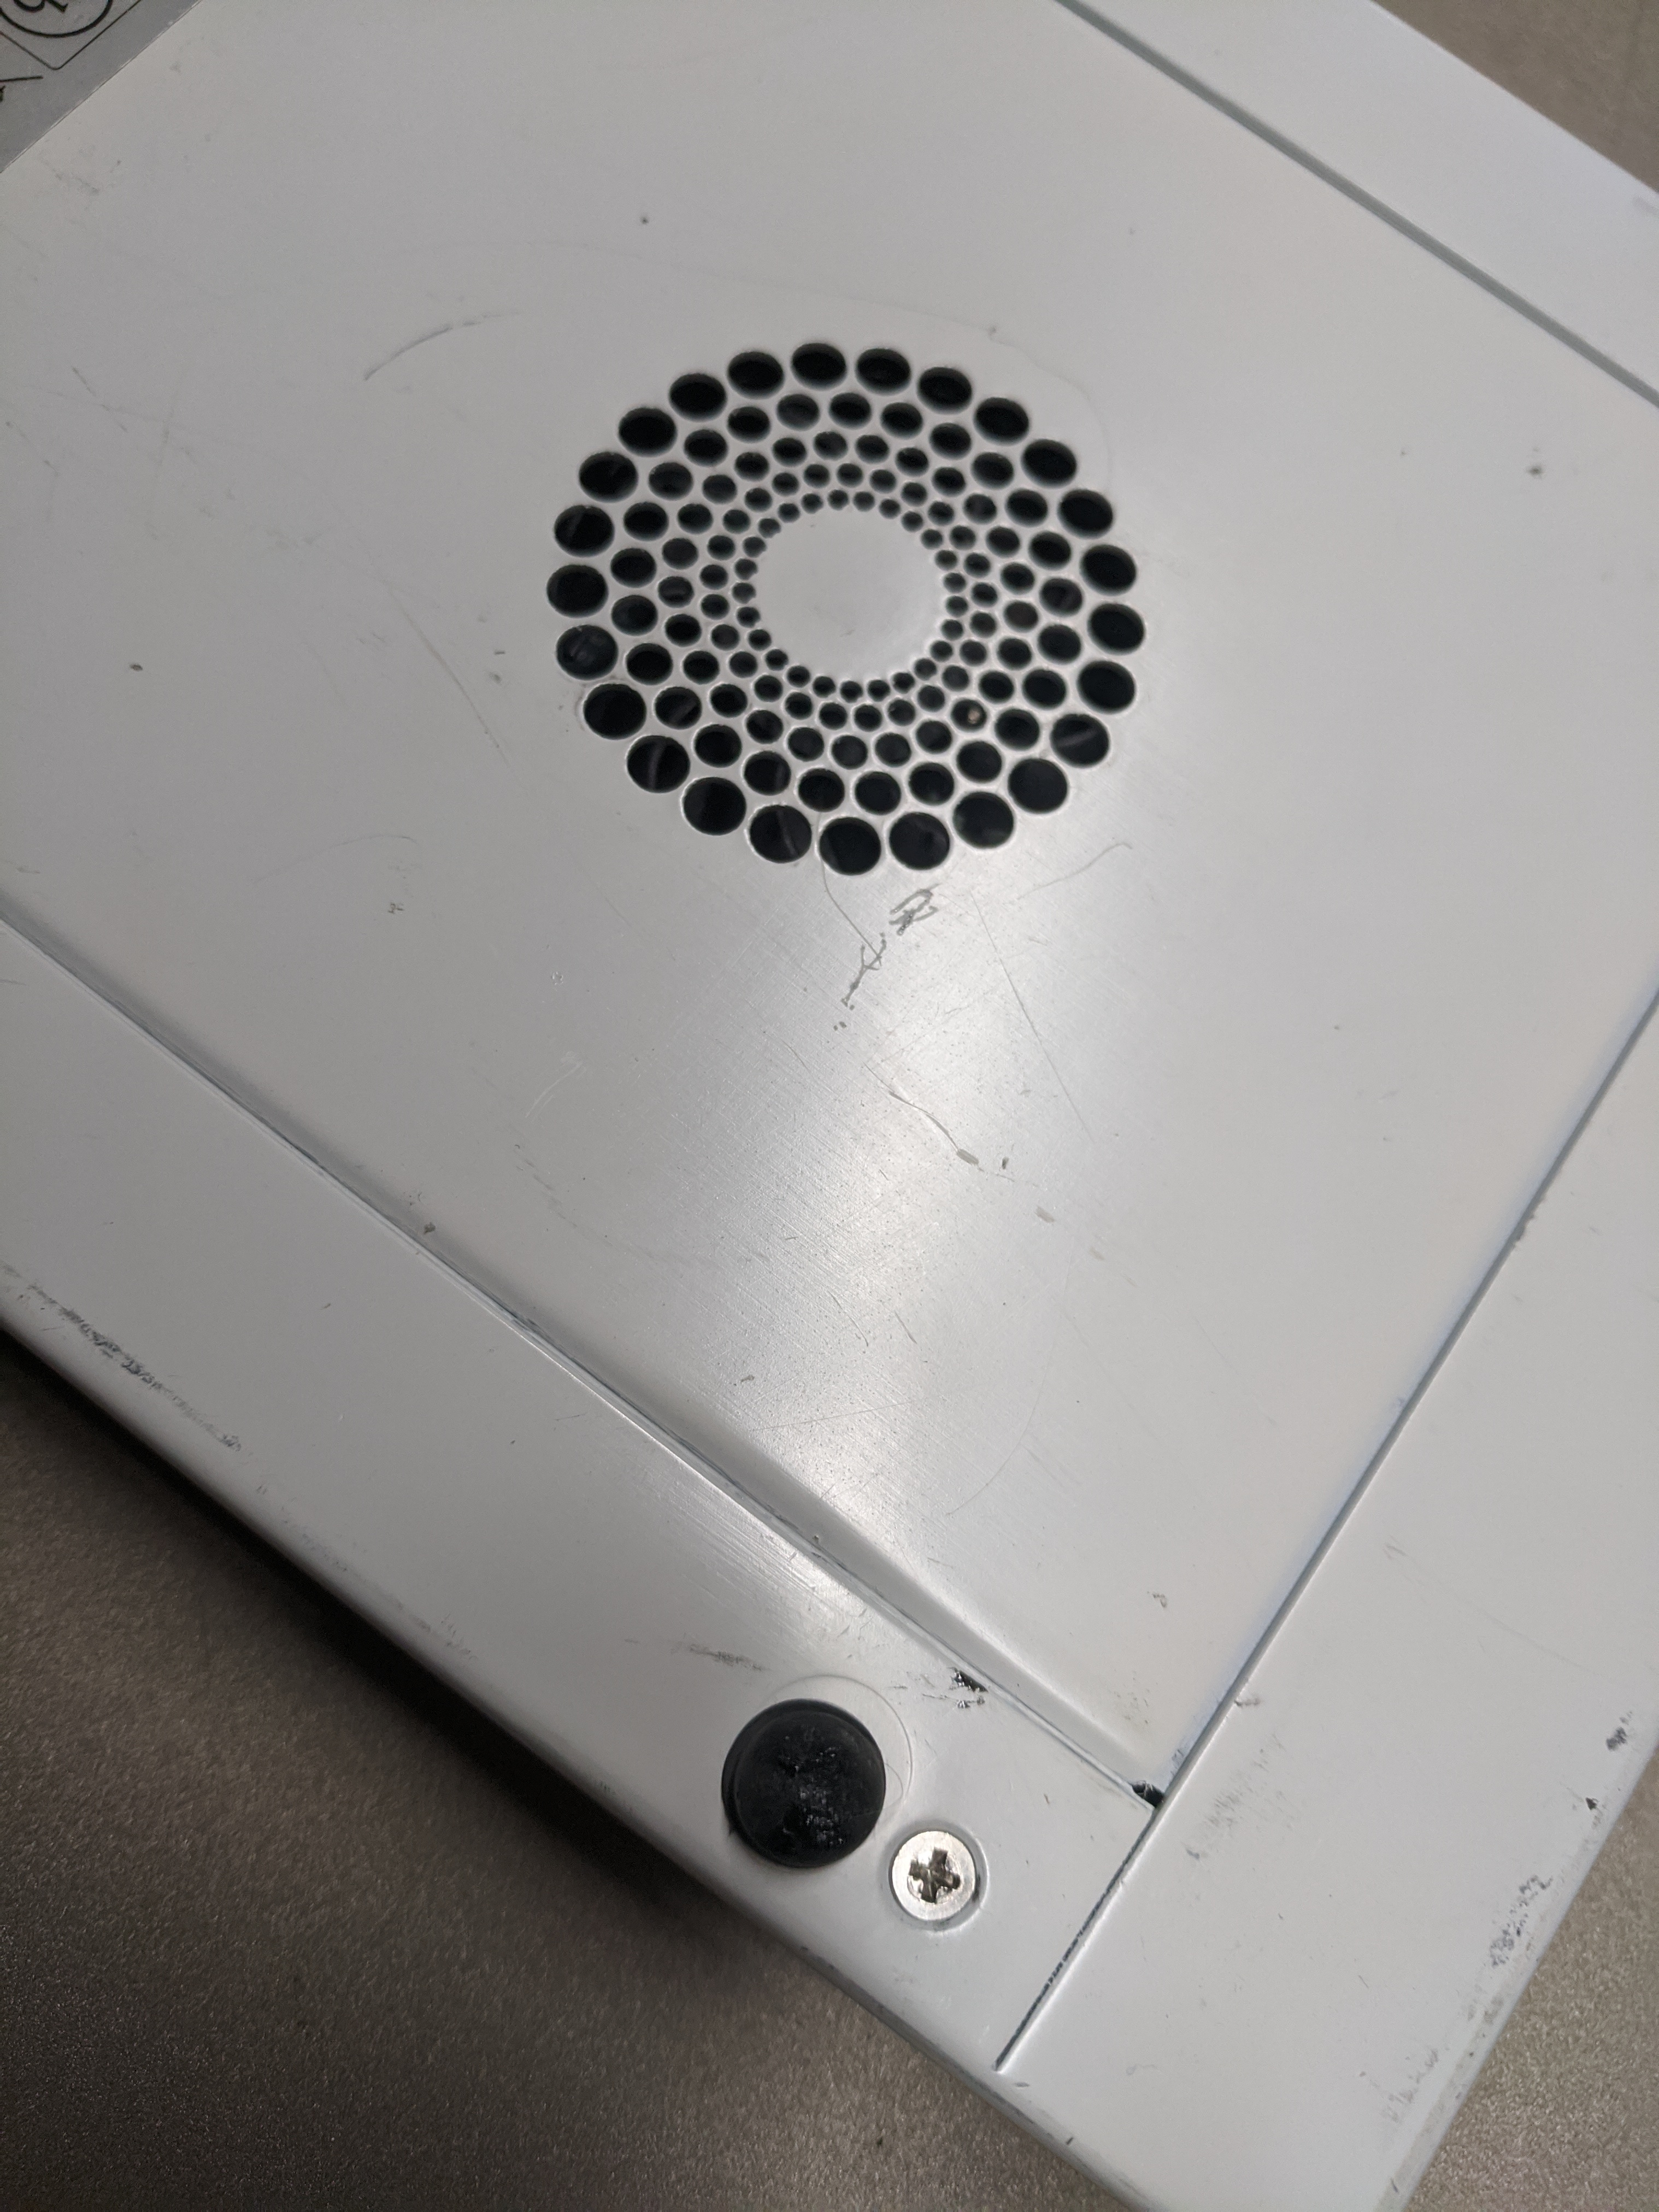cross_recessed_screw: (864, 1803, 995, 1932)
